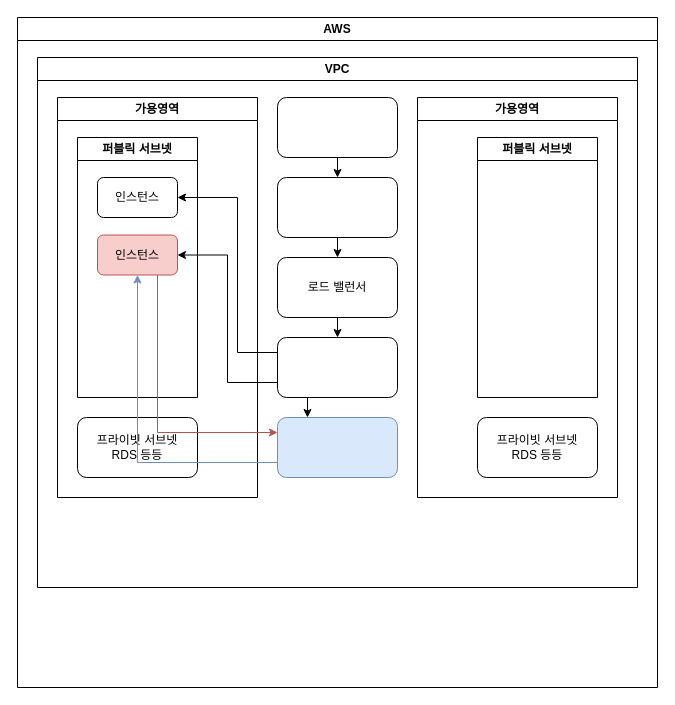
The diagram is 675 pixels wide and 705 high, and some of its shapes have lost their labels. The centre of each missing label's shape, as x and y in pixels:
게이트웨이: [337,127]
대상 그룹: [337,367]
라우터: [337,207]
오토 스케일: [337,447]
